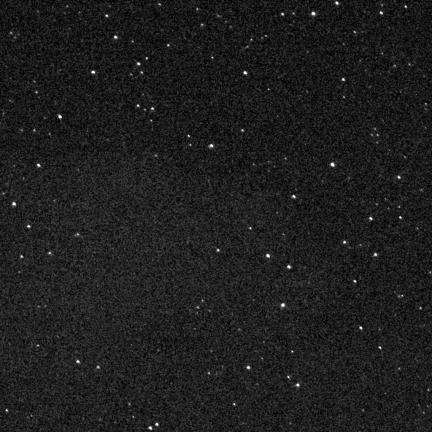blob: (243, 71, 247, 75), (266, 254, 269, 258)
